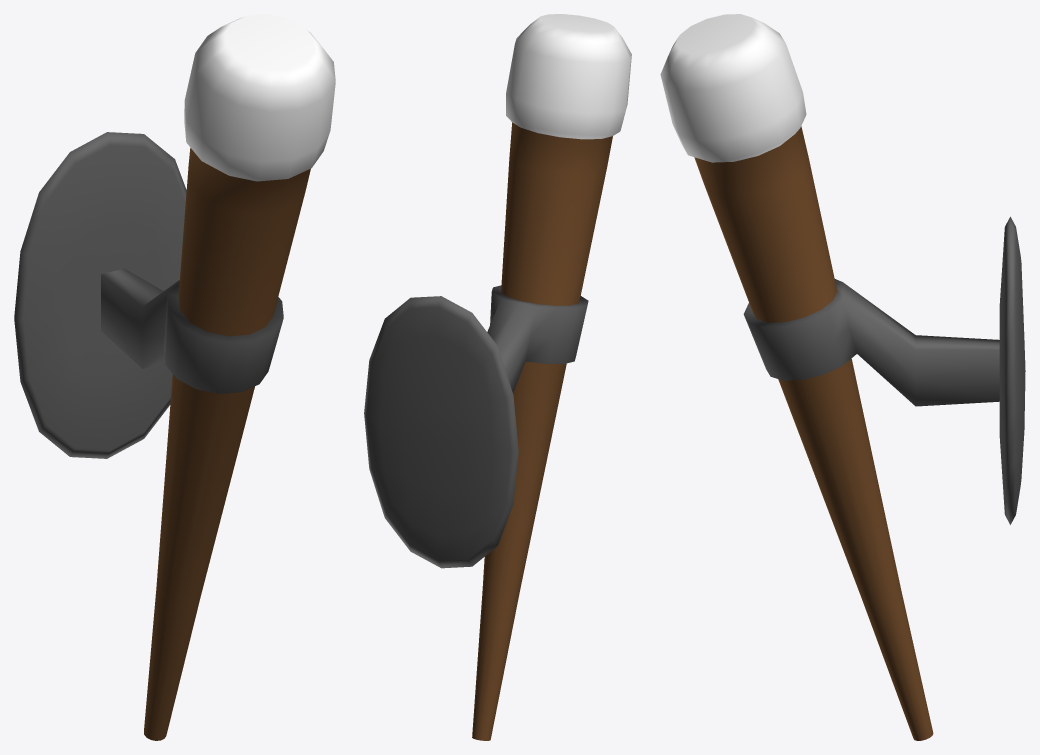
Rendered from Taimatu.fbx.
3 renders of one model, left to right at view 1: azimuth 30°, elevation 25°; view 2: azimuth 150°, elevation 25°; view 3: azimuth 270°, elevation 25°, orthographic. The views are drawn at different scales.
Visible parts, largest first — view 1: pCylinder3; view 2: pCylinder3; view 3: pCylinder3.
Part boxes in pixels (x1,y1,x2,y2): pCylinder3: [14, 14, 335, 740]; pCylinder3: [364, 14, 631, 740]; pCylinder3: [660, 14, 1025, 740].
Size of the model in its own units: 1.13 by 4.6 by 2.13.
